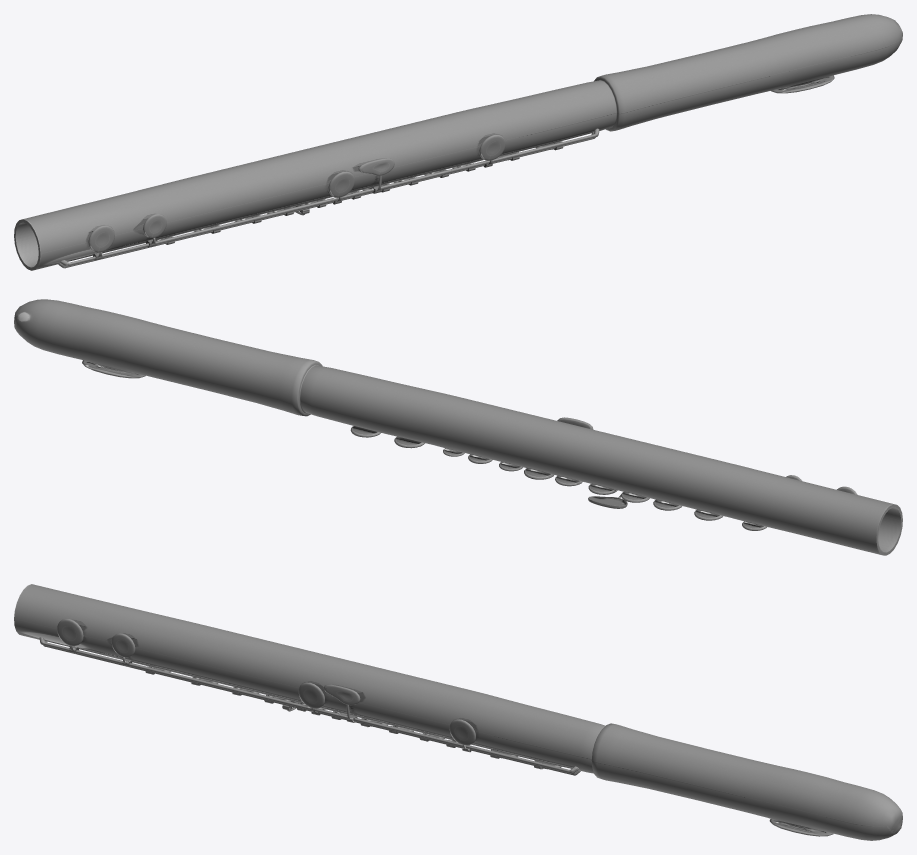
The model's file is 10381_Flute_v4_L3.obj.
3 renders of one model, top to bottom at view 1: azimuth 30°, elevation 25°; view 2: azimuth 150°, elevation 25°; view 3: azimuth 330°, elevation 25°, orthographic.
Parts seen in each view (by area): view 1: 10381_Flute_v04; view 2: 10381_Flute_v04; view 3: 10381_Flute_v04.
Boxes of the visible parts, <box> form: 10381_Flute_v04: <box>14,14,902,270</box>; 10381_Flute_v04: <box>14,299,902,555</box>; 10381_Flute_v04: <box>14,584,902,840</box>.
Size of the model in its own units: 68.12 by 4.59 by 4.44.
1 material, 1 textured.
